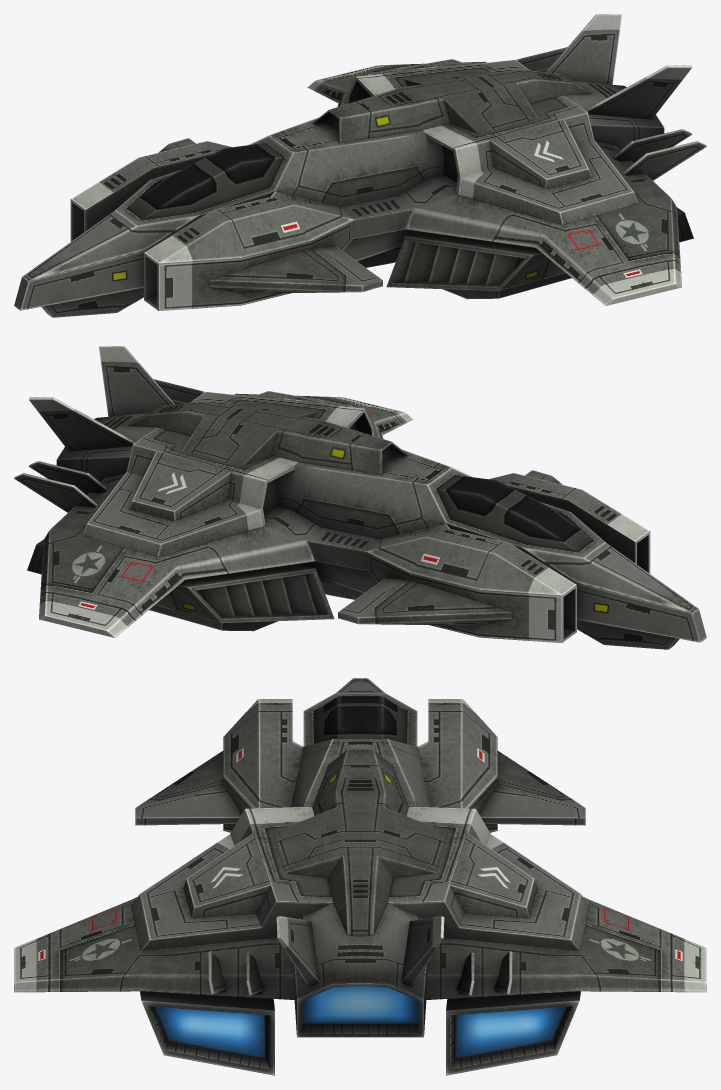
The model's file is space_frigate_2.FBX.
3 renders of one model, top to bottom at view 1: azimuth 30°, elevation 25°; view 2: azimuth 150°, elevation 25°; view 3: azimuth 270°, elevation 25°, orthographic. The views are drawn at different scales.
Visible parts, largest first — view 1: space_frigate_2; view 2: space_frigate_2; view 3: space_frigate_2.
Boxes of the visible parts, x1,y1,x2,y2 form: space_frigate_2: [14, 14, 706, 317]; space_frigate_2: [14, 346, 706, 649]; space_frigate_2: [14, 678, 706, 1075].
Bounding box in the file's own units: 48.58 × 11.59 × 39.28.
1 material, 1 textured.
